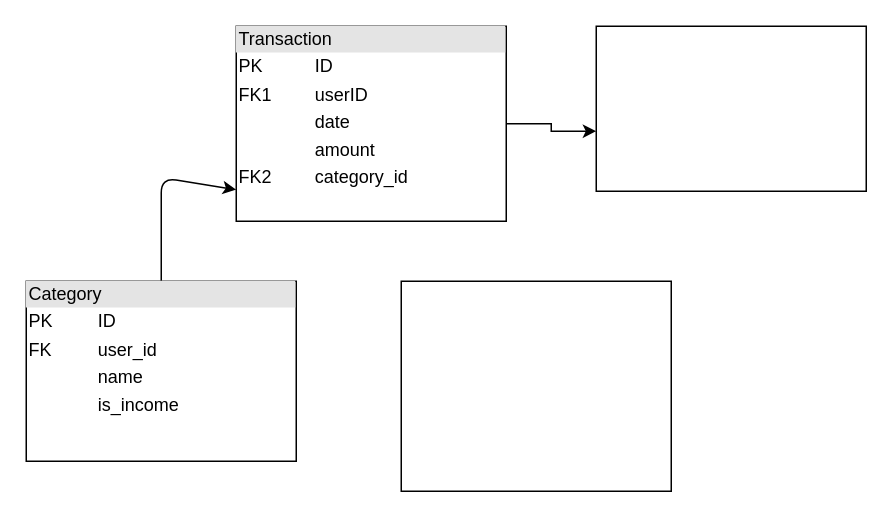
Image size: 893x518. Some labels were removed from this diagram. Each missing label, with the box of its shape:
Budget PK ID FK1 userID month year FK2 category_id amount: (400, 280, 671, 491)
User PK ID username: (595, 25, 866, 191)
